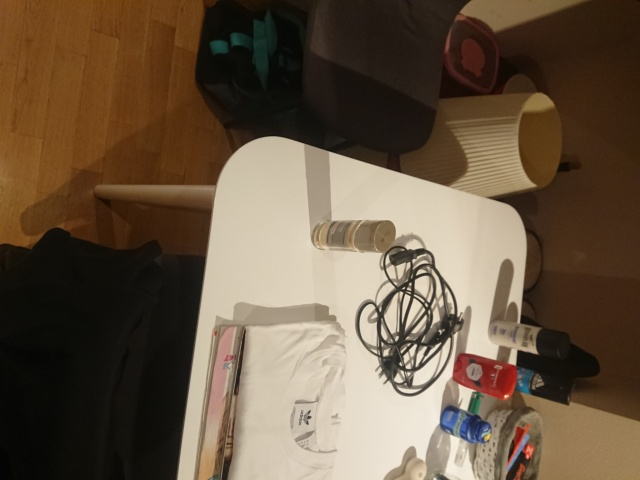Kotanyi Garlic Granules 70g: (310, 217, 398, 255)
